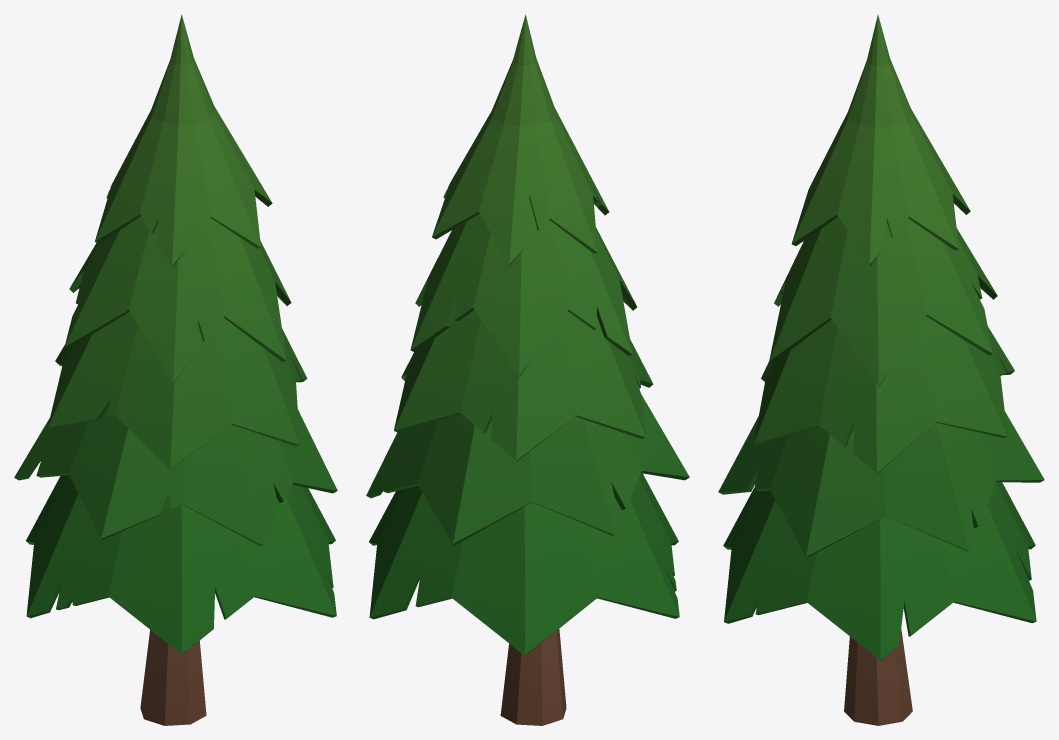
The model's file is SM_Nature_Tree_08.fbx.
3 views of the same model, side by side, from view 1: azimuth 30°, elevation 25°; view 2: azimuth 150°, elevation 25°; view 3: azimuth 270°, elevation 25° (orthographic).
Parts seen in each view (by area): view 1: SM_Nature_Tree_08_LOD0; view 2: SM_Nature_Tree_08_LOD0; view 3: SM_Nature_Tree_08_LOD0.
Part boxes in pixels (<box>): SM_Nature_Tree_08_LOD0: <box>14,14,337,725</box>; SM_Nature_Tree_08_LOD0: <box>366,14,689,725</box>; SM_Nature_Tree_08_LOD0: <box>718,14,1044,725</box>.
Bounding box in the file's own units: 2.06 × 4.42 × 1.86.
